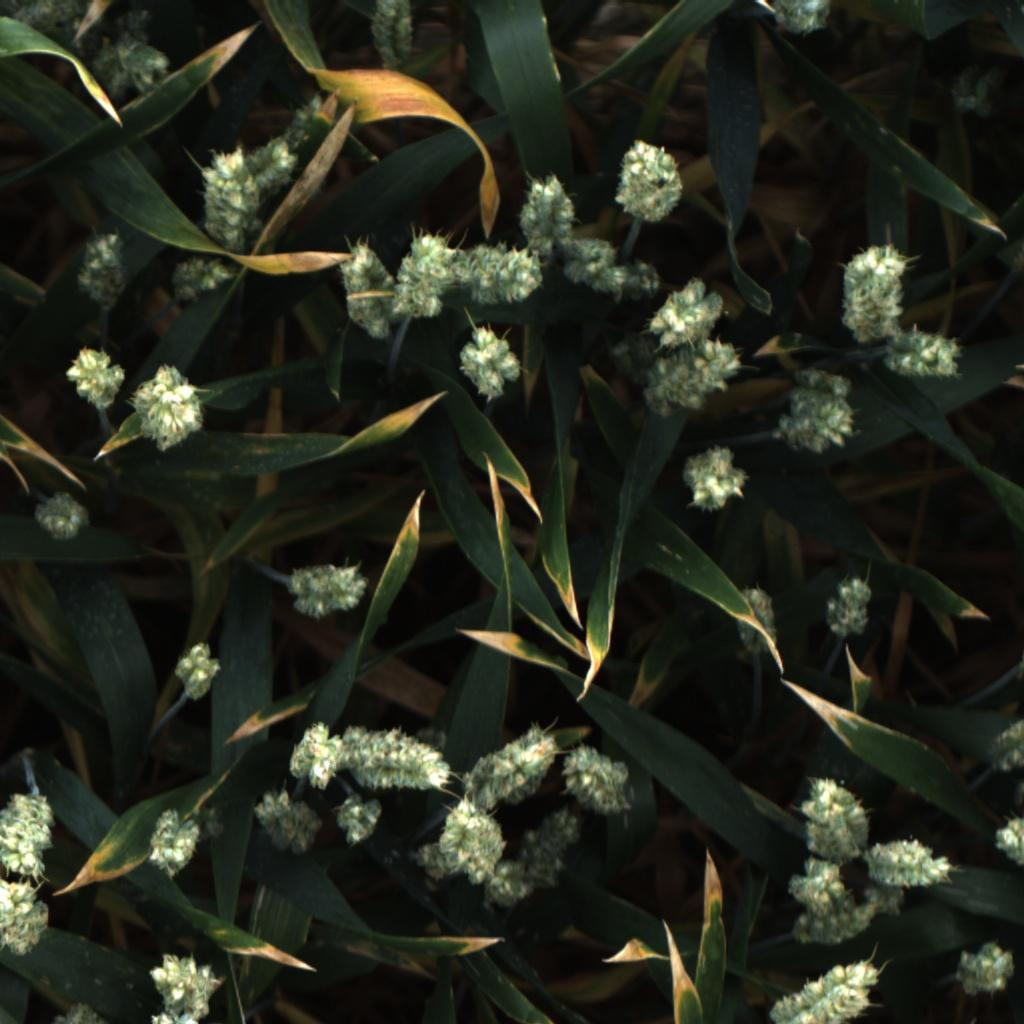0-0: (824, 240, 910, 350), (456, 720, 555, 811), (342, 725, 466, 796), (184, 142, 260, 254), (417, 796, 507, 890), (125, 362, 215, 453), (763, 955, 881, 1024), (641, 345, 747, 418), (795, 770, 874, 864), (139, 943, 229, 1024), (613, 139, 693, 227), (865, 839, 956, 916), (387, 229, 462, 314), (449, 242, 544, 309), (642, 280, 729, 353), (70, 229, 139, 317), (555, 739, 634, 812), (285, 559, 373, 623), (681, 443, 754, 517), (98, 35, 180, 100), (336, 244, 395, 334), (0, 791, 59, 880), (518, 804, 577, 892), (458, 327, 523, 406), (60, 343, 133, 413), (251, 790, 321, 862), (880, 324, 964, 384), (139, 811, 207, 885), (282, 719, 350, 793), (770, 400, 848, 464), (554, 237, 631, 301), (819, 572, 883, 647), (512, 178, 574, 254), (0, 873, 52, 963), (786, 897, 876, 949), (27, 487, 96, 549), (166, 635, 227, 705), (954, 934, 1019, 997), (730, 582, 779, 664), (252, 127, 304, 201), (367, 2, 418, 76), (785, 851, 850, 908), (170, 251, 237, 306), (328, 793, 392, 848), (787, 370, 856, 419), (975, 805, 1023, 874), (946, 65, 1005, 117), (979, 709, 1024, 774), (482, 855, 537, 908), (761, 2, 835, 41), (620, 258, 670, 305)
